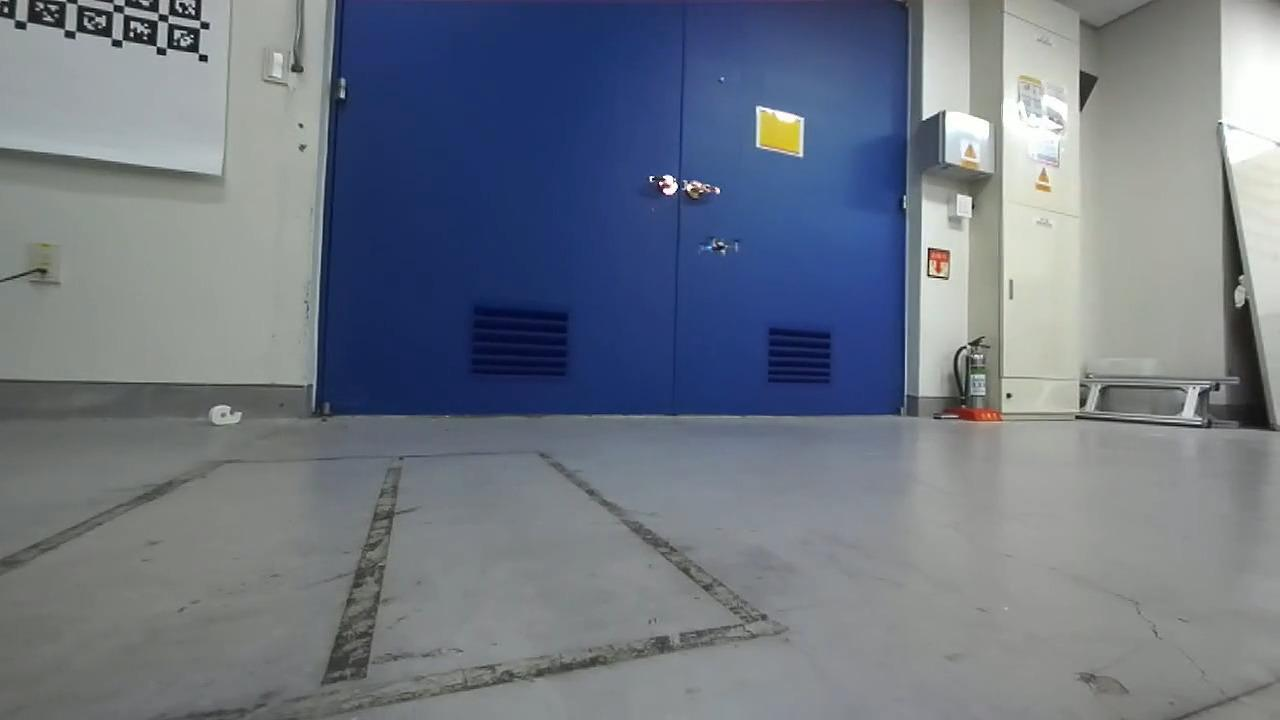crazyflie: (692, 230, 747, 261)
